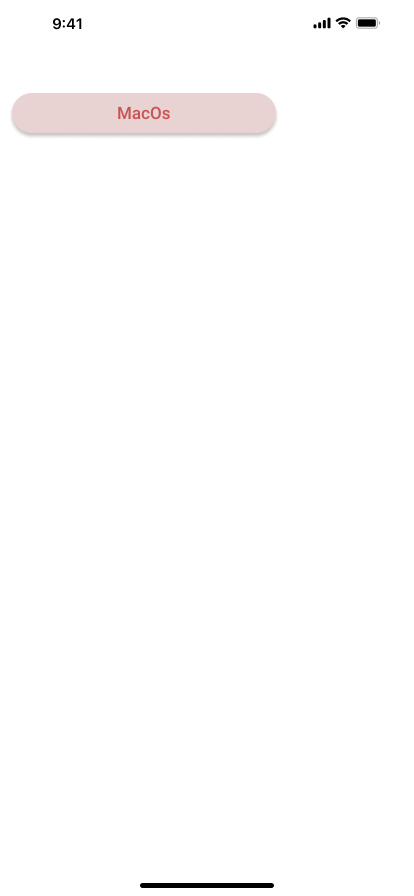Buttons: (8, 92, 284, 140)
Home Indicator: (0, 862, 414, 896)
Status Bar: (0, 0, 414, 44)
